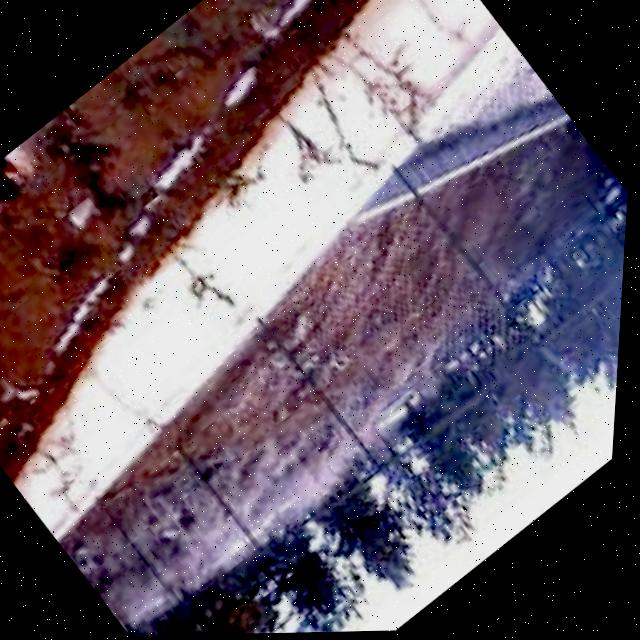Fire: (0, 141, 50, 239)
